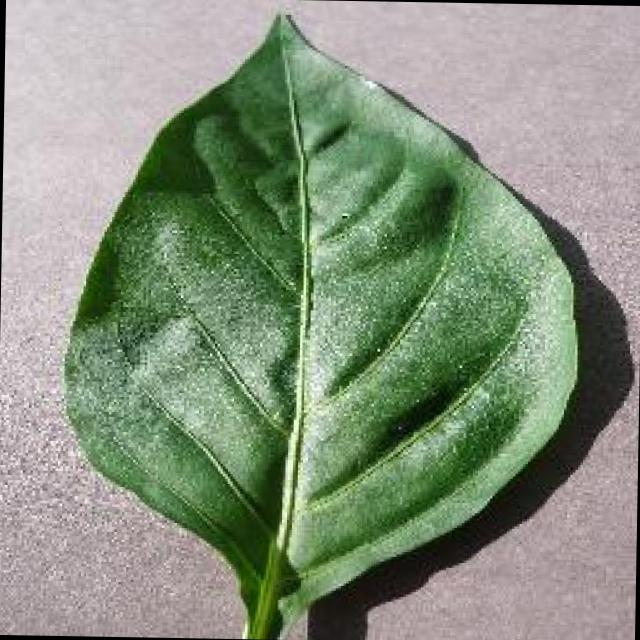Chilli_Healthy: (54, 6, 585, 640)
